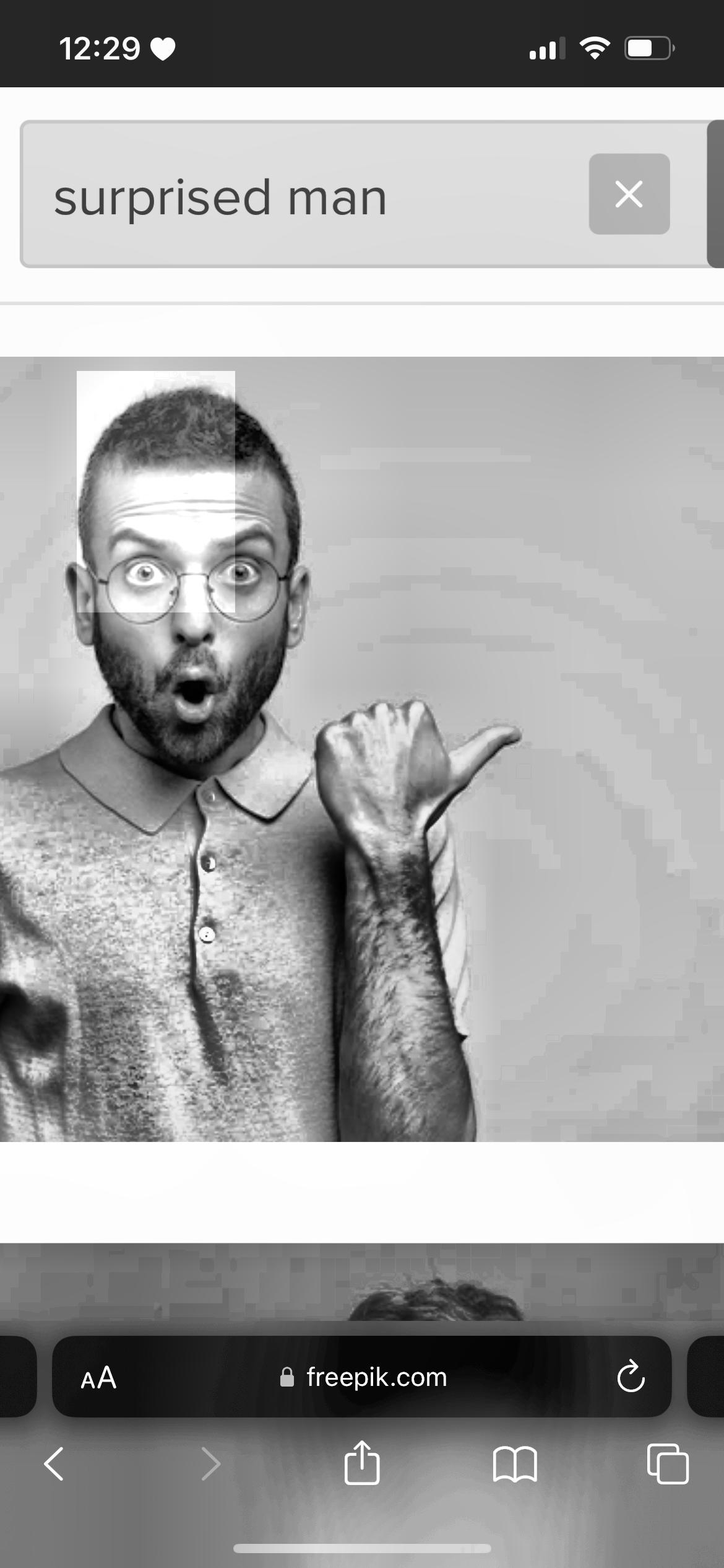surprised: (95, 459, 291, 757)
